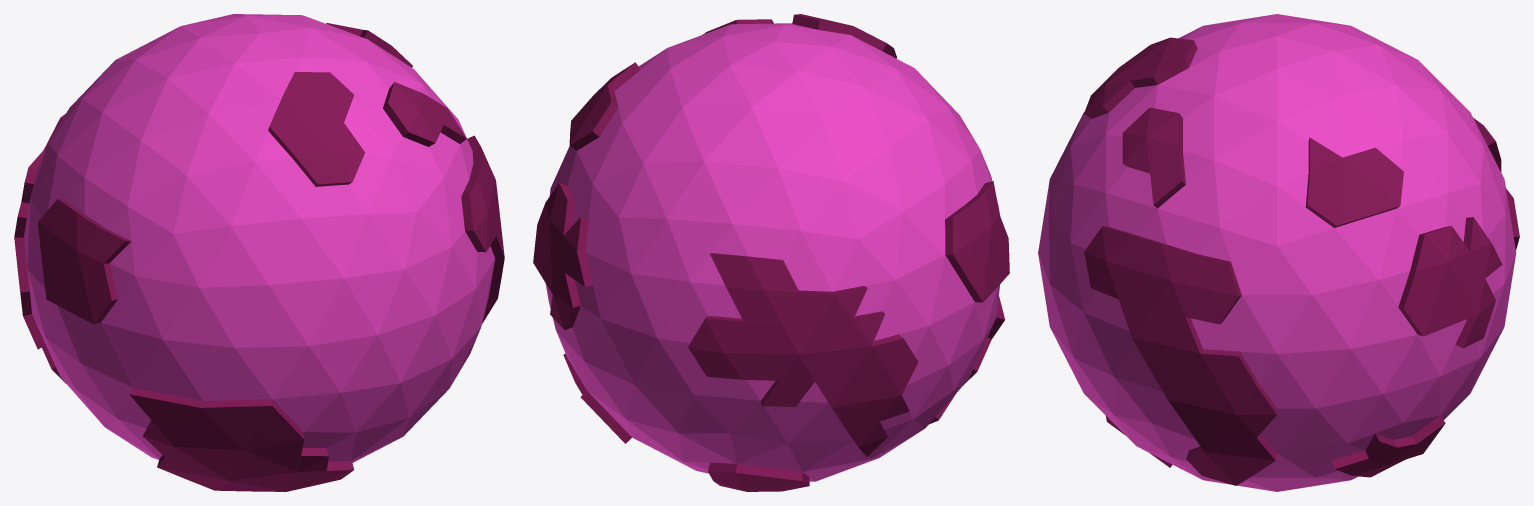
The model's file is Planet04.glb.
3 renders of one model, left to right at view 1: azimuth 30°, elevation 25°; view 2: azimuth 150°, elevation 25°; view 3: azimuth 270°, elevation 25°, orthographic. The views are drawn at different scales.
Visible parts, largest first — view 1: Planet04; view 2: Planet04; view 3: Planet04.
Boxes of the visible parts, x1,y1,x2,y2 form: Planet04: (14, 14, 504, 491); Planet04: (533, 14, 1009, 491); Planet04: (1038, 14, 1519, 491).
Bounding box in the file's own units: 1.02 × 0.9939 × 1.
